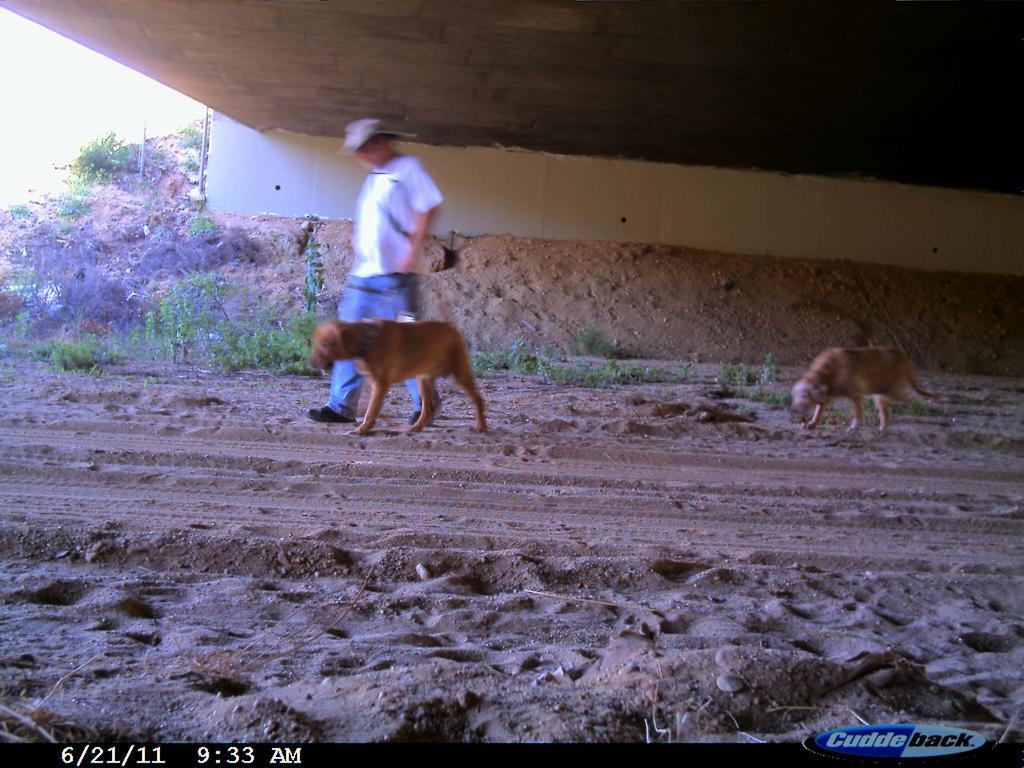dog: (305, 314, 506, 447), (788, 336, 944, 436)
